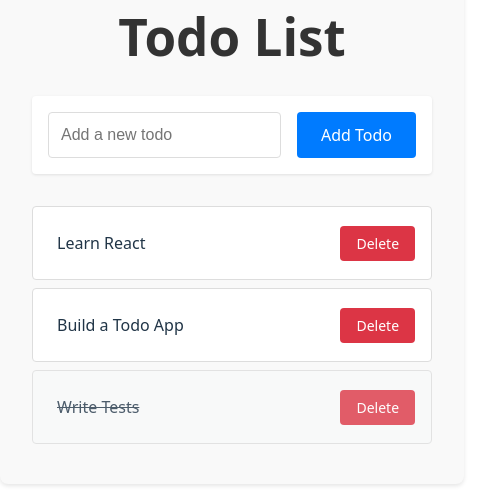
deletes a todo when delete button is clicked
Expected: the text "Learn React" is shown, top-left (57, 232), bottom-right (146, 254)
Step 1. Click the button "Delete" in the row of "Learn React" → coordinates (378, 243), box top-left (340, 226), bottom-right (415, 261)
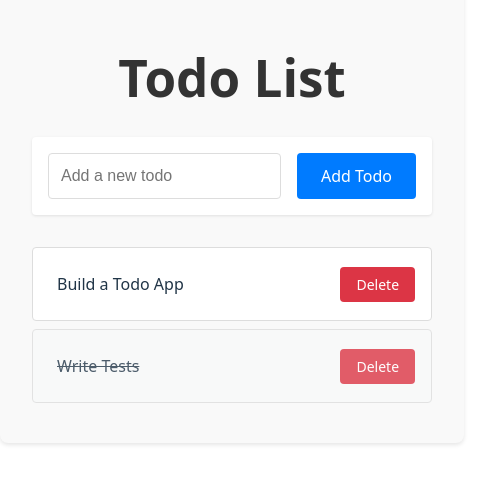
Expected: the text "Learn React" is gone
